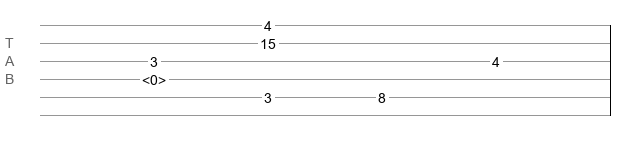15: (260, 36, 276, 46)
3: (150, 54, 158, 64), (264, 90, 272, 100)
4: (264, 18, 272, 28), (492, 54, 500, 64)
8: (378, 90, 386, 100)
harmonic: (142, 72, 166, 82)
